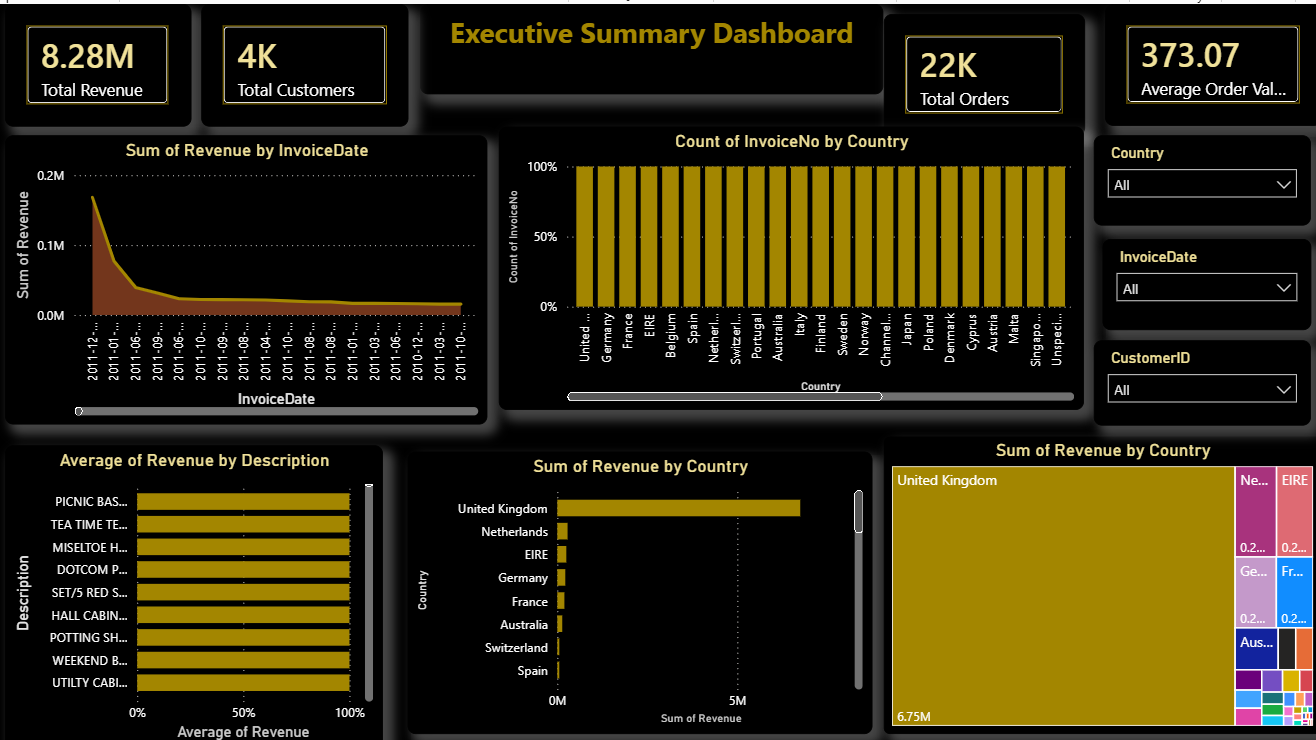

The page's visual inventory and layout, read from the dashboard file:
{"tool":"powerbi","page":{"name":"Page 1","canvas":[1280,720],"ordinal":0},"visuals":[{"type":"cardVisual","fields":{"Data":["ecommerce_ba online_retail.Total Revenue"]},"box":[9.6,0,179.8,118],"z":0},{"type":"textbox","box":[410.2,0,447.6,86.9],"z":1000},{"type":"cardVisual","fields":{"Data":["ecommerce_ba online_retail.Total Customers"]},"box":[199,0,200.3,118],"z":2000},{"type":"cardVisual","fields":{"Data":["ecommerce_ba online_retail.Total Orders"]},"box":[857.6,9.5,194.5,117.5],"z":3000},{"type":"cardVisual","fields":{"Data":["ecommerce_ba online_retail.Average Order Value"]},"box":[1070.9,0,209.3,117.5],"z":4000},{"type":"lineChart","fields":{"Category":["ecommerce_ba online_retail.InvoiceDate"],"Y":["Sum(ecommerce_ba online_retail.Revenue)"]},"box":[9.5,126.9,465.9,279.6],"z":5000},{"type":"clusteredBarChart","fields":{"Category":["ecommerce_ba online_retail.Country"],"Y":["Sum(ecommerce_ba online_retail.Revenue)"]},"box":[398.1,431.9,448.8,272.7],"z":6000},{"type":"hundredPercentStackedColumnChart","fields":{"Category":["ecommerce_ba online_retail.Country"],"Y":["Count(ecommerce_ba online_retail.InvoiceNo)"]},"box":[486.2,118.2,564.6,273.9],"z":7000},{"type":"treemap","fields":{"Group":["ecommerce_ba online_retail.Country"],"Values":["Sum(ecommerce_ba online_retail.Revenue)"]},"box":[857.8,417.4,422.3,287.1],"z":8000},{"type":"hundredPercentStackedBarChart","fields":{"Category":["ecommerce_ba online_retail.Description"],"Y":["Avg(ecommerce_ba online_retail.Revenue)"]},"box":[9.5,425.4,364.6,294.4],"z":9000},{"type":"slicer","fields":{"Values":["ecommerce_ba online_retail.Country"]},"box":[1060.5,126.7,209.9,86.9],"z":10000},{"type":"slicer","fields":{"Values":["ecommerce_ba online_retail.InvoiceDate"]},"box":[1068.9,226.8,201.5,88.1],"z":11000},{"type":"slicer","fields":{"Values":["ecommerce_ba online_retail.CustomerID"]},"box":[1060.5,324.5,209.9,82],"z":12000}]}

Visuals, with their boxes in screenshot pixels (x1, y1, x2, y2), scaled from the page's 1280x720 canvas onto the 1316x740 screenshot:
cardVisual - ecommerce_ba online_retail.Total Revenue: (10,0,195,121)
textbox: (422,0,882,89)
cardVisual - ecommerce_ba online_retail.Total Customers: (205,0,411,121)
cardVisual - ecommerce_ba online_retail.Total Orders: (882,10,1082,131)
cardVisual - ecommerce_ba online_retail.Average Order Value: (1101,0,1315,121)
lineChart - ecommerce_ba online_retail.InvoiceDate x Sum(ecommerce_ba online_retail.Revenue): (10,130,489,418)
clusteredBarChart - ecommerce_ba online_retail.Country x Sum(ecommerce_ba online_retail.Revenue): (409,444,871,724)
hundredPercentStackedColumnChart - ecommerce_ba online_retail.Country x Count(ecommerce_ba online_retail.InvoiceNo): (500,121,1080,403)
treemap - ecommerce_ba online_retail.Country x Sum(ecommerce_ba online_retail.Revenue): (882,429,1315,724)
hundredPercentStackedBarChart - ecommerce_ba online_retail.Description x Avg(ecommerce_ba online_retail.Revenue): (10,437,385,739)
slicer - ecommerce_ba online_retail.Country: (1090,130,1306,220)
slicer - ecommerce_ba online_retail.InvoiceDate: (1099,233,1306,324)
slicer - ecommerce_ba online_retail.CustomerID: (1090,334,1306,418)
